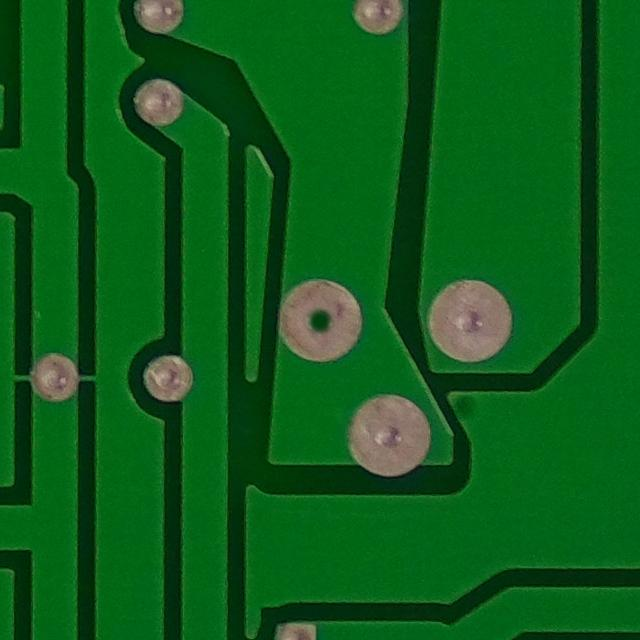missing_hole: (290, 275, 353, 366)
